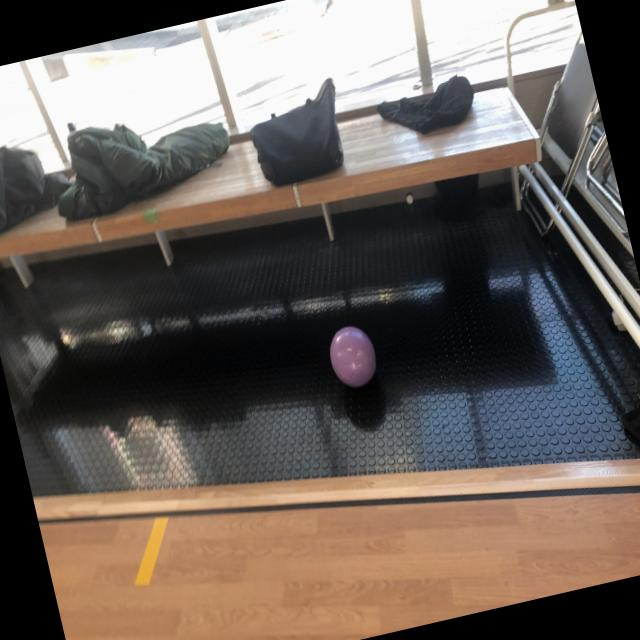purple_ball: (324, 321, 382, 392)
